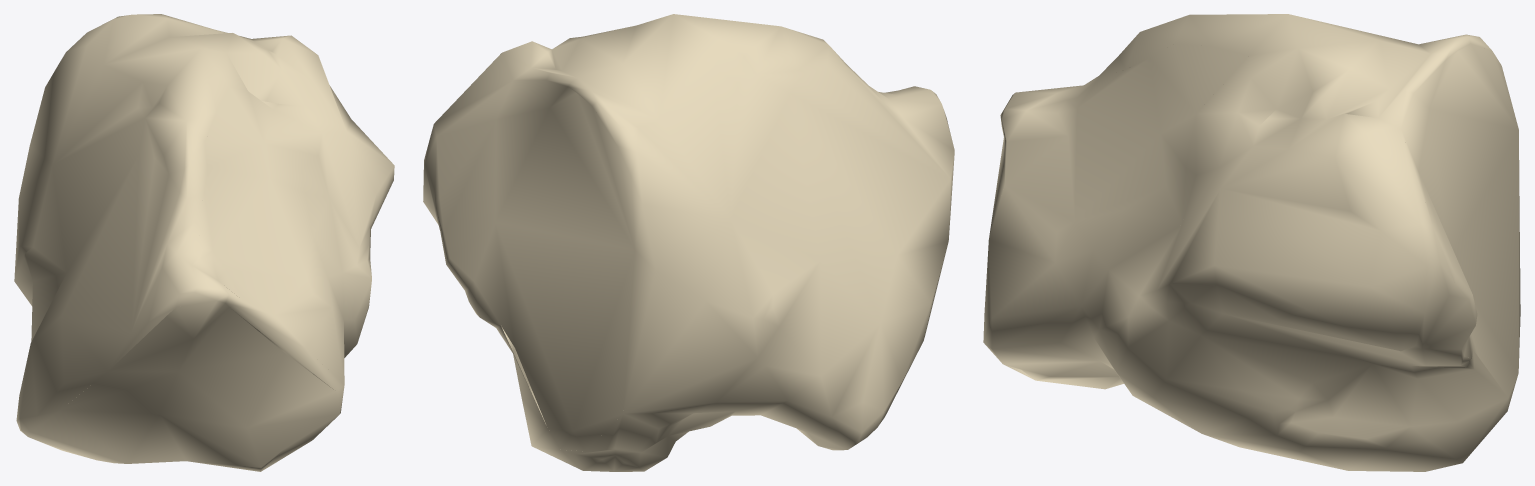
File: esqueleto-cuboid-bone-r.glb
3 renders of one model, left to right at view 1: azimuth 30°, elevation 25°; view 2: azimuth 150°, elevation 25°; view 3: azimuth 270°, elevation 25°, orthographic. The views are drawn at different scales.
Visible parts, largest first — view 1: Cuboid bone.r; view 2: Cuboid bone.r; view 3: Cuboid bone.r.
Boxes of the visible parts, x1,y1,x2,y2 form: Cuboid bone.r: (14,14,394,471); Cuboid bone.r: (423,14,954,471); Cuboid bone.r: (983,14,1520,471).
Size of the model in its own units: 0.0322 by 0.0309 by 0.0342.
